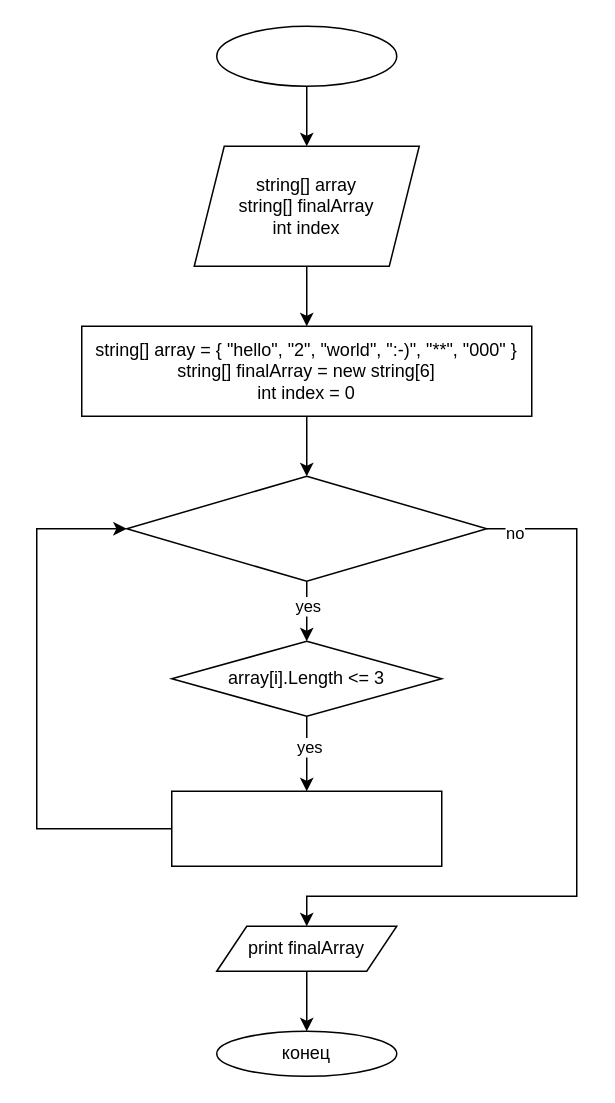
The diagram is 615 pixels wide and 1103 high, and some of its shapes have lost their labels. Each missing label, with the box of its shape:
finalArray[index] = array[i] index++: (170, 790, 442, 866)
int i = 0; i < array.Length; i++: (125, 475, 487, 581)
начало: (215, 25, 397, 86)
